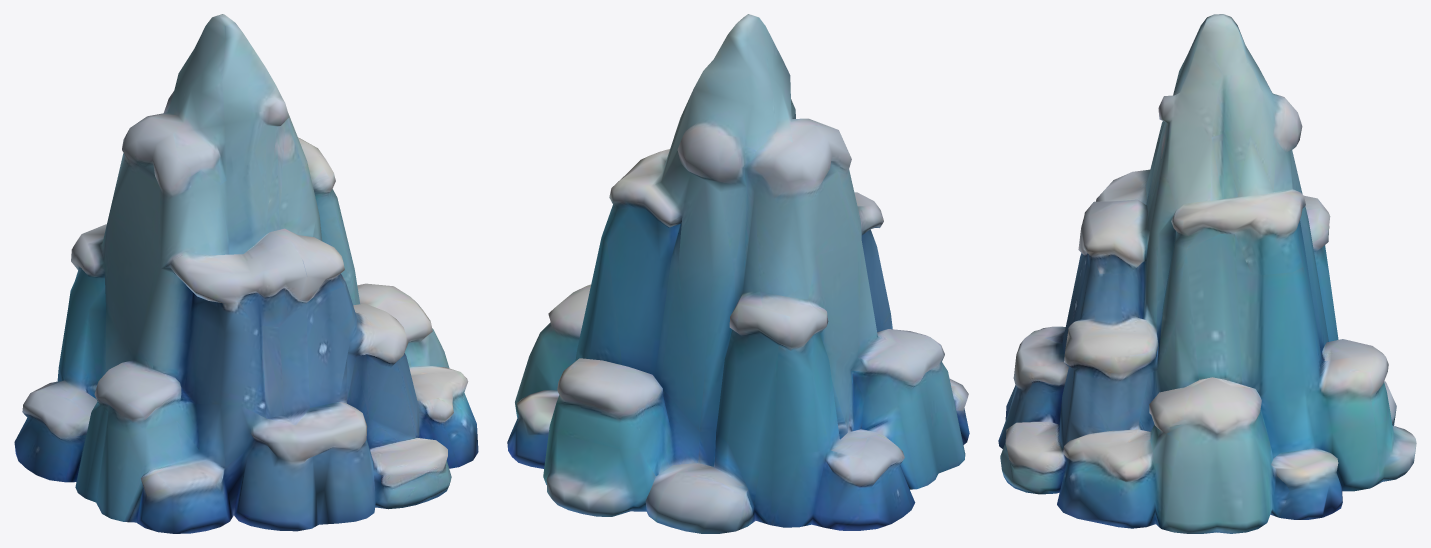
Rendered from icepeak.glb.
3 views of the same model, side by side, from view 1: azimuth 30°, elevation 25°; view 2: azimuth 150°, elevation 25°; view 3: azimuth 270°, elevation 25° (orthographic). The views are drawn at different scales.
Visible parts, largest first — view 1: tripo_node_0174ed2b-a6ca-4857-a809-21644d6670a6; view 2: tripo_node_0174ed2b-a6ca-4857-a809-21644d6670a6; view 3: tripo_node_0174ed2b-a6ca-4857-a809-21644d6670a6.
Part boxes in pixels (<box>): tripo_node_0174ed2b-a6ca-4857-a809-21644d6670a6: <box>14,14,478,533</box>; tripo_node_0174ed2b-a6ca-4857-a809-21644d6670a6: <box>507,14,969,533</box>; tripo_node_0174ed2b-a6ca-4857-a809-21644d6670a6: <box>998,14,1416,533</box>.
Bounding box in the file's own units: 0.9512 × 0.998 × 0.9082.
Materials: 1 (1 with a texture image).
